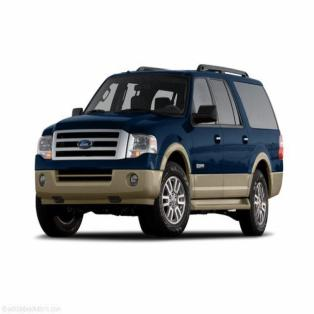Auto: (33, 64, 285, 240)
